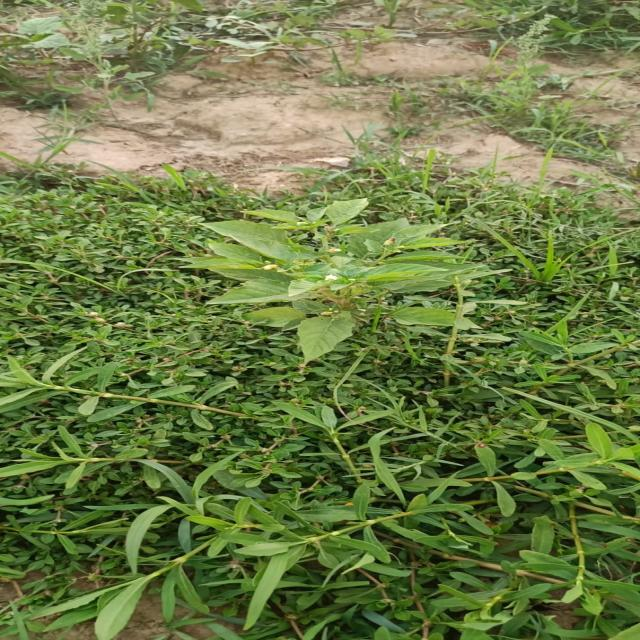plant: (187, 200, 525, 363)
